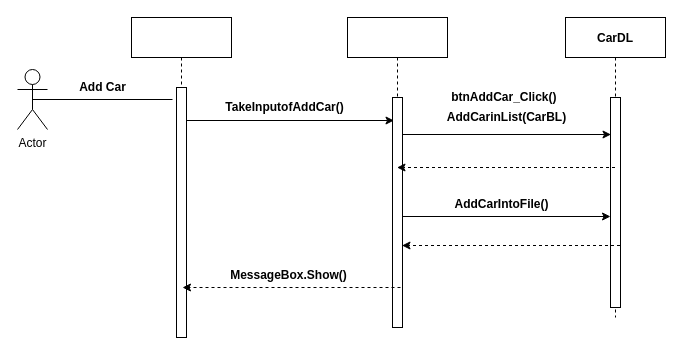
Image size: 683x355. Some labels were removed from this diagram. The shapes that lost their labels are listed below. From the top down, each one's box as (x1, y1, x2, y2) in pixels, then its label:
(130, 16, 232, 338): Program
(346, 16, 448, 328): AddCarForm
